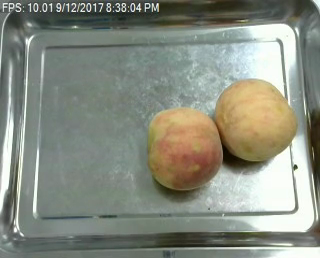Peach: (215, 77, 296, 162), (145, 107, 222, 190)
